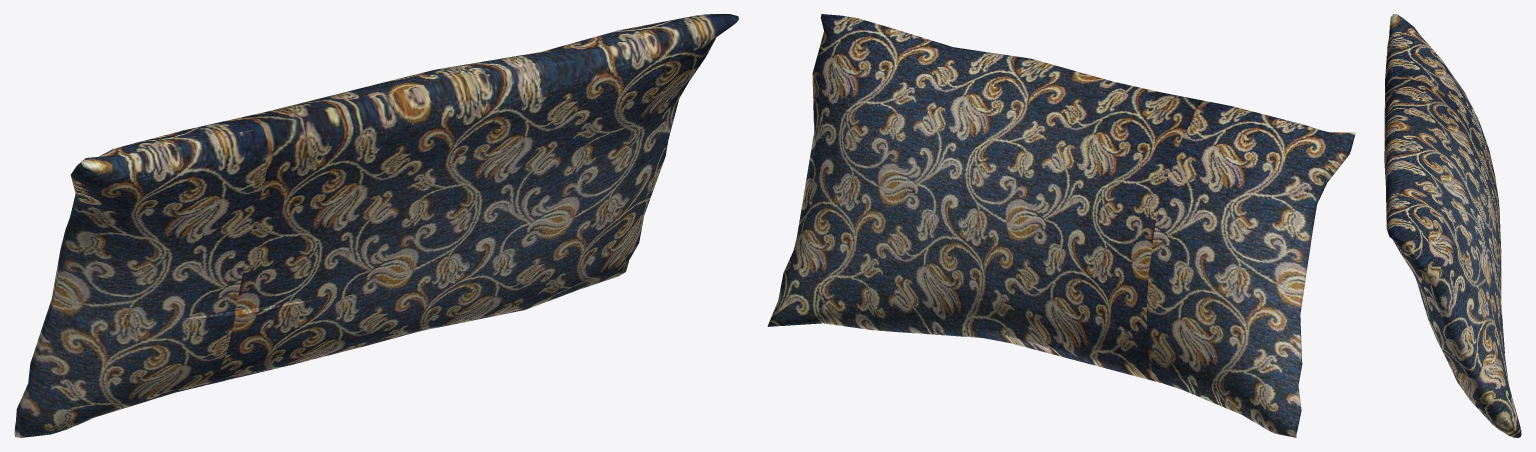
The model's file is Pillow 2.FBX.
3 renders of one model, left to right at view 1: azimuth 30°, elevation 25°; view 2: azimuth 150°, elevation 25°; view 3: azimuth 270°, elevation 25°, orthographic. The views are drawn at different scales.
Visible parts, largest first — view 1: pillow 2; view 2: pillow 2; view 3: pillow 2.
Boxes of the visible parts, x1,y1,x2,y2 form: pillow 2: [14, 14, 738, 437]; pillow 2: [767, 14, 1355, 437]; pillow 2: [1384, 14, 1521, 437].
Size of the model in its own units: 71.7 by 19.33 by 34.32.
1 material, 1 textured.
